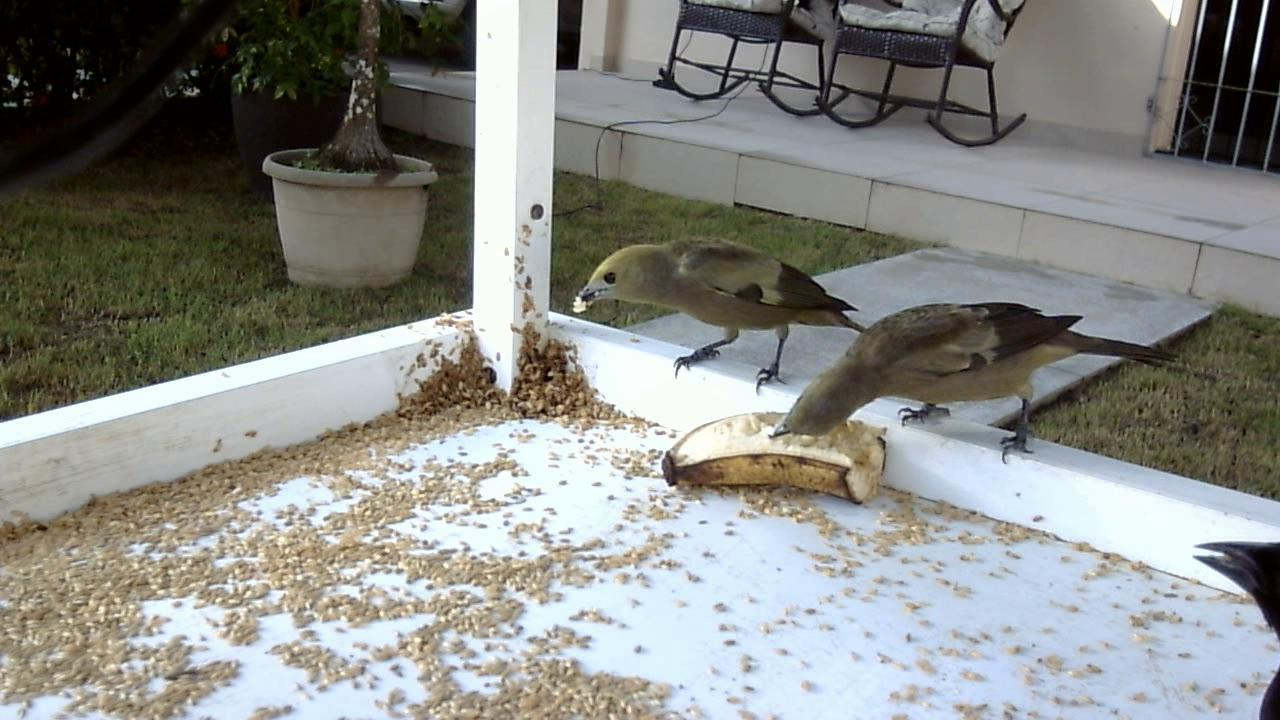chupim: (1179, 507, 1280, 710)
sanhaco_do_coqueiro: (778, 278, 1196, 483), (567, 226, 866, 401)
